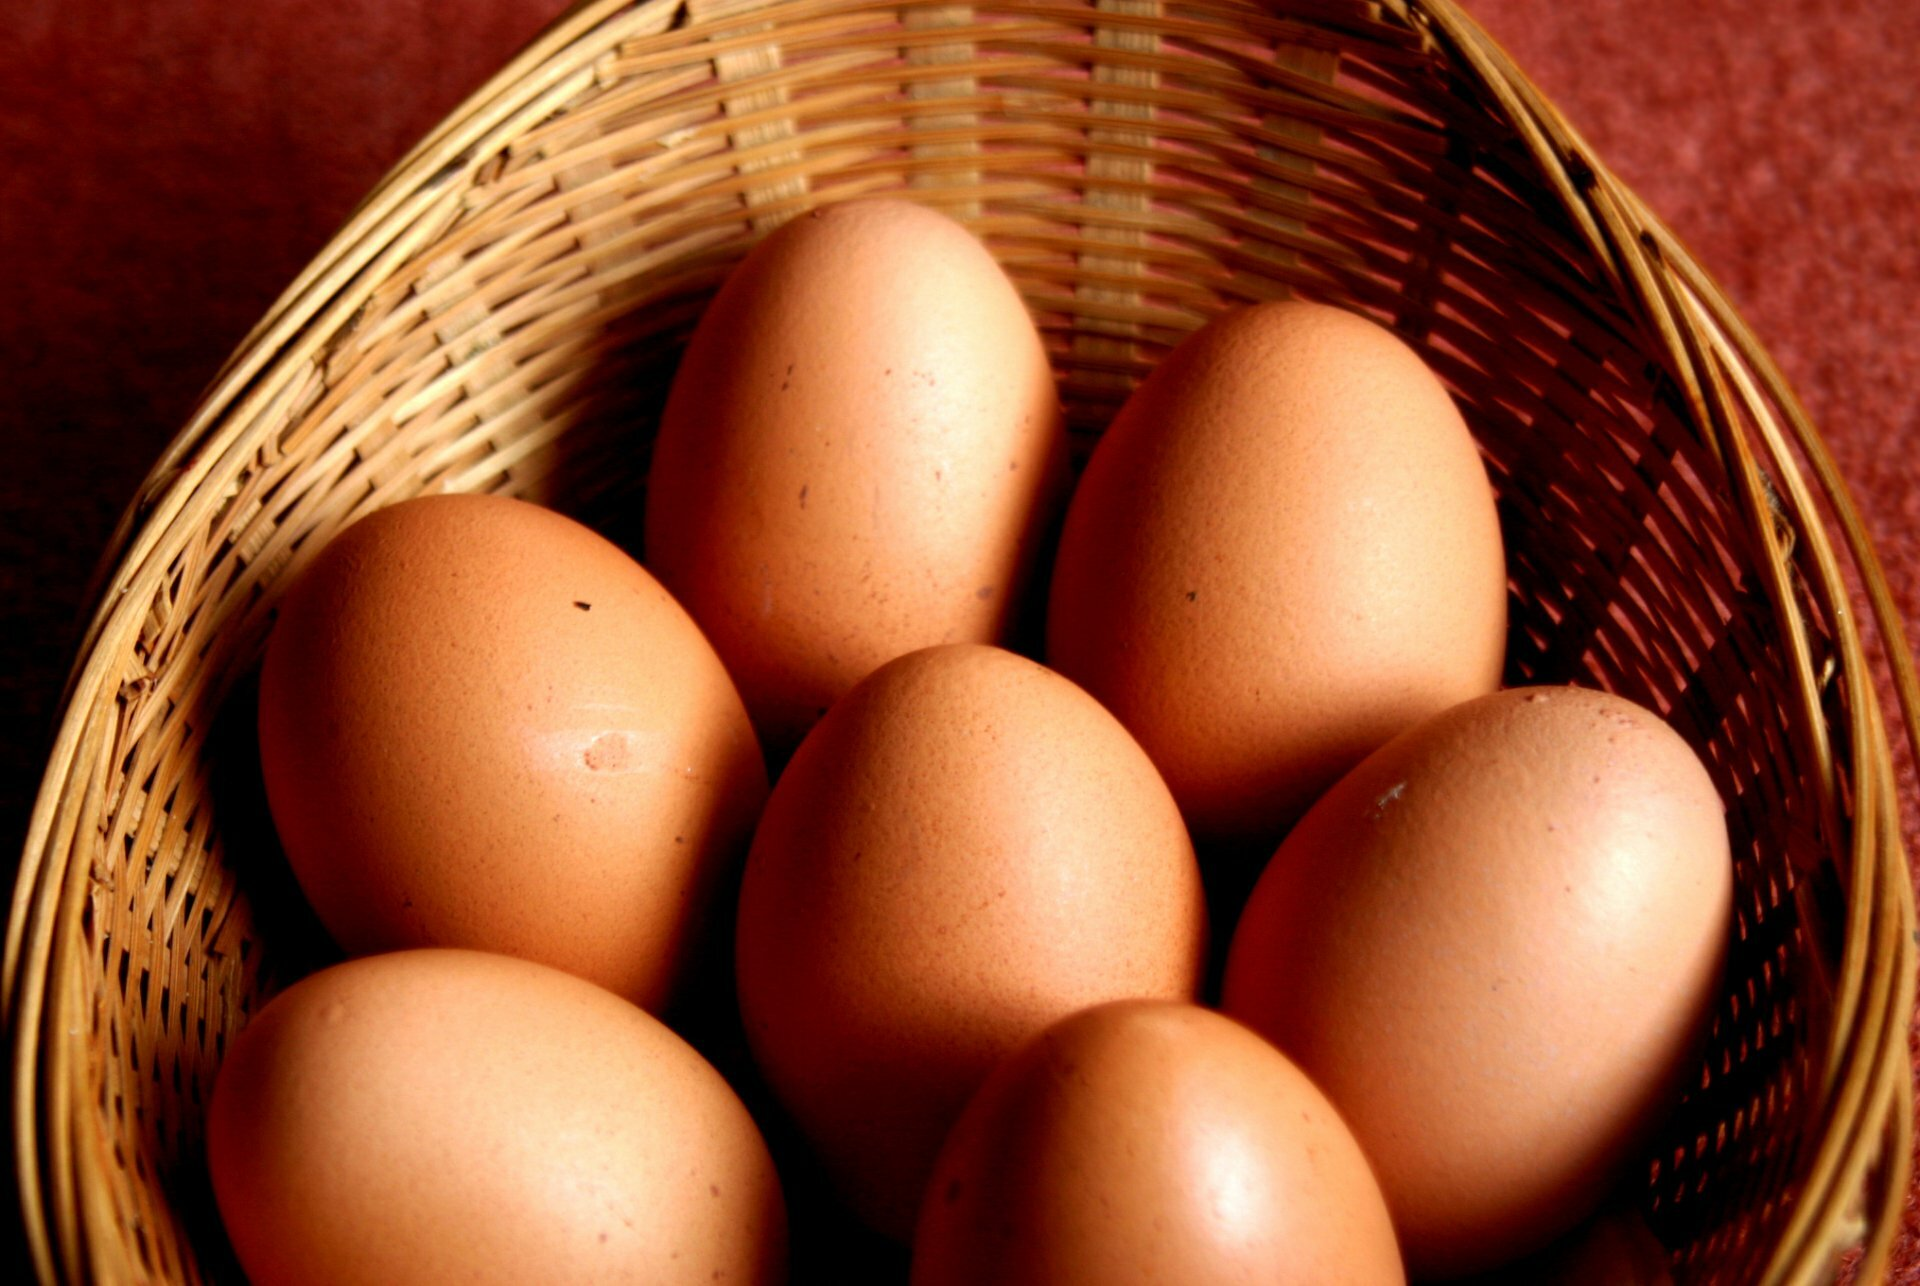Egg: (1218, 669, 1758, 1257), (699, 632, 1215, 1211), (237, 478, 791, 1018), (1066, 290, 1510, 837), (634, 187, 1070, 719), (179, 944, 814, 1286), (903, 977, 1434, 1286)
